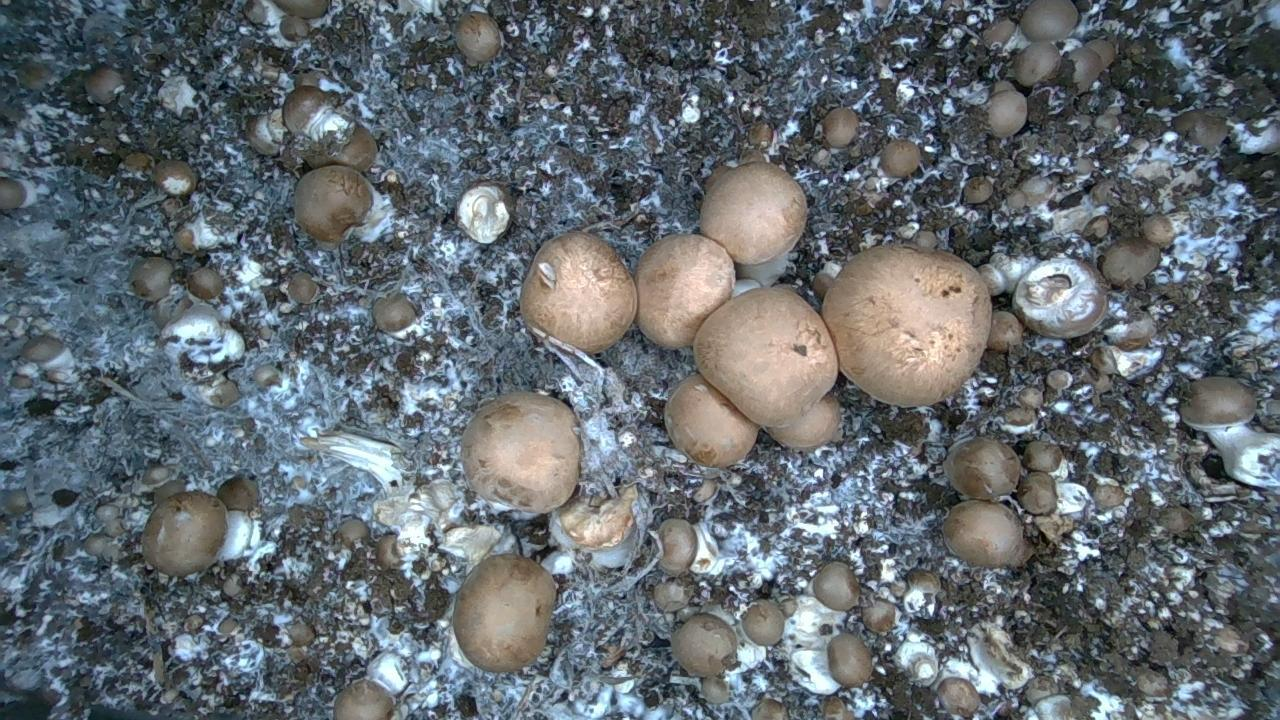BB: (822, 245, 991, 406), (693, 288, 837, 426), (461, 392, 580, 512), (520, 231, 636, 354), (452, 554, 555, 671), (635, 234, 734, 348), (700, 162, 807, 264), (665, 375, 759, 467), (294, 165, 393, 247), (1013, 258, 1106, 338), (142, 491, 226, 576), (943, 500, 1032, 567), (944, 437, 1021, 499), (766, 393, 841, 450), (671, 613, 736, 676), (1181, 377, 1256, 426), (1101, 237, 1160, 286), (455, 12, 502, 64), (334, 679, 394, 719), (1020, 0, 1078, 41), (811, 561, 859, 610), (828, 633, 871, 686), (658, 519, 697, 575), (282, 86, 326, 134), (1014, 41, 1060, 86), (742, 599, 785, 645), (129, 256, 172, 302), (988, 90, 1027, 137), (372, 293, 416, 332), (937, 677, 979, 717), (1017, 472, 1056, 514), (153, 160, 196, 195), (84, 67, 123, 104), (987, 311, 1023, 351), (217, 476, 258, 511), (881, 139, 919, 176), (21, 335, 65, 365), (1022, 441, 1062, 473), (186, 267, 224, 299), (862, 600, 897, 632), (1212, 625, 1248, 655), (275, 0, 329, 19), (244, 0, 283, 26), (654, 582, 688, 611), (287, 272, 318, 303), (1158, 506, 1193, 532), (963, 176, 993, 203), (752, 697, 788, 719), (821, 695, 854, 719), (252, 364, 281, 386), (1018, 386, 1043, 408), (1046, 369, 1072, 389)
